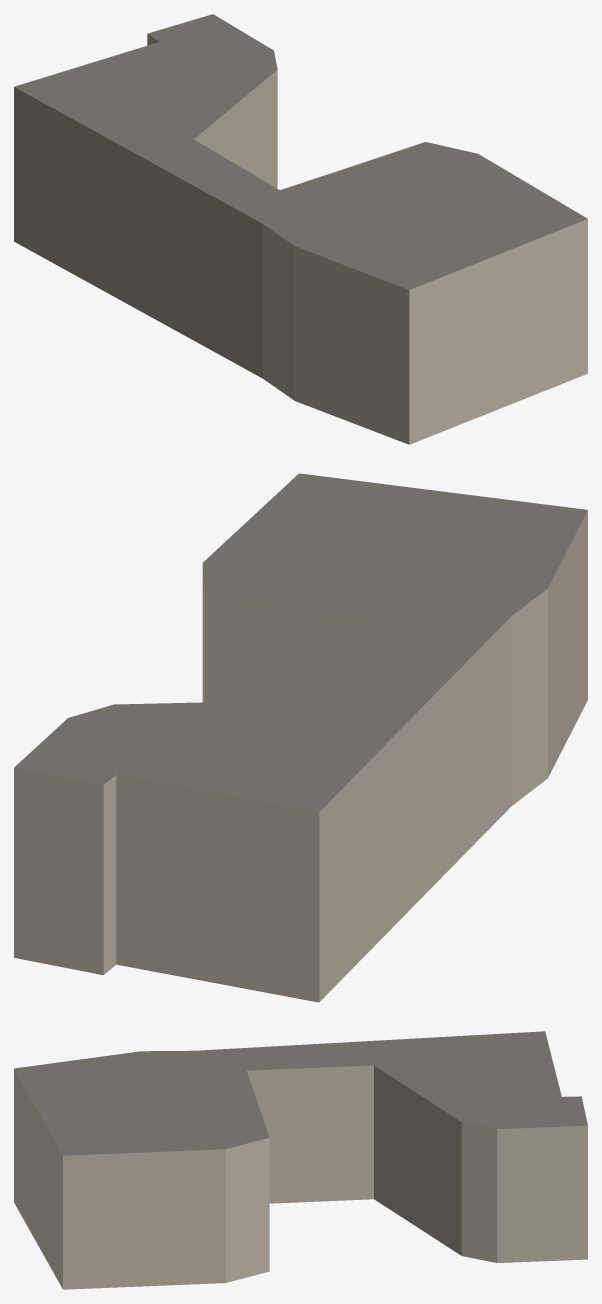
3 views of the same model, one above another, from view 1: azimuth 30°, elevation 25°; view 2: azimuth 150°, elevation 25°; view 3: azimuth 270°, elevation 25° (orthographic). The views are drawn at different scales.
Visible parts, largest first — view 1: HP-w859424125; view 2: HP-w859424125; view 3: HP-w859424125.
Part boxes in pixels (x1,y1,x2,y2): HP-w859424125: (14, 14, 587, 444); HP-w859424125: (14, 473, 587, 1002); HP-w859424125: (14, 1031, 587, 1289).
Size of the model in its own units: 35.91 by 18 by 69.94.
